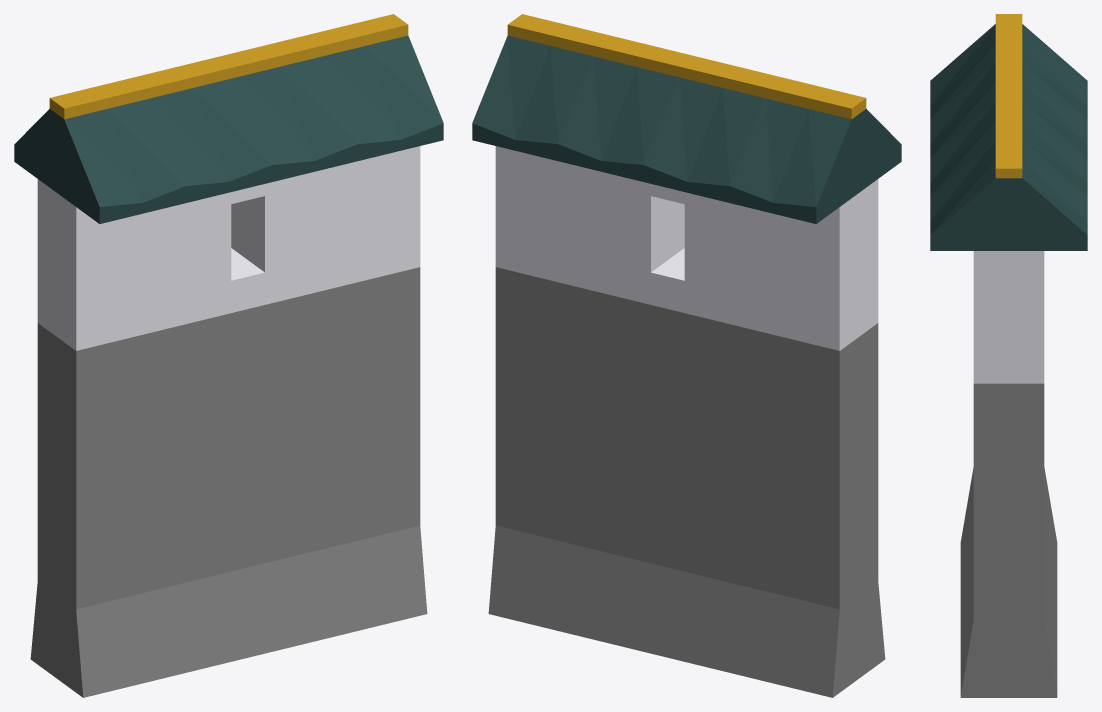
Rendered from Asian_Prop_Building_Fence_Wall_High_Small_Embrasure_04.FBX.
The picture shows the model from 3 angles, left to right: view 1: azimuth 30°, elevation 25°; view 2: azimuth 150°, elevation 25°; view 3: azimuth 270°, elevation 25°; orthographic projection. The views are drawn at different scales.
Visible parts, largest first — view 1: Asian_Prop_Building_Fence_Wall_High_Small_Embrasure_04; view 2: Asian_Prop_Building_Fence_Wall_High_Small_Embrasure_04; view 3: Asian_Prop_Building_Fence_Wall_High_Small_Embrasure_04.
Part boxes in pixels (bbox=[...]): Asian_Prop_Building_Fence_Wall_High_Small_Embrasure_04: bbox=[14, 14, 443, 697]; Asian_Prop_Building_Fence_Wall_High_Small_Embrasure_04: bbox=[472, 14, 901, 697]; Asian_Prop_Building_Fence_Wall_High_Small_Embrasure_04: bbox=[930, 14, 1087, 697].
Bounding box in the file's own units: 2584 × 4128 × 1112.
